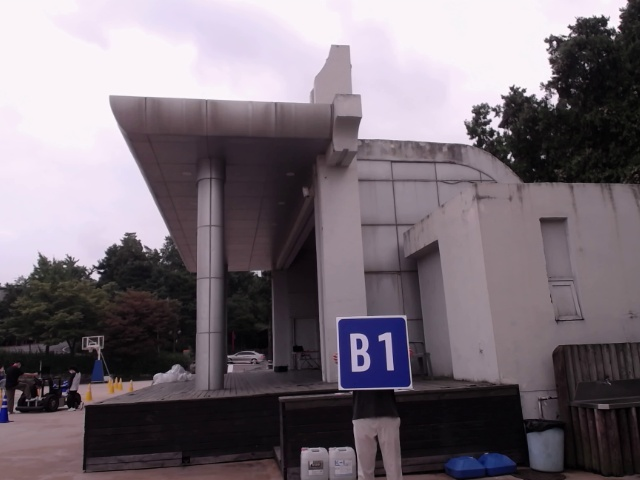delivery_b1: (337, 316, 413, 390)
